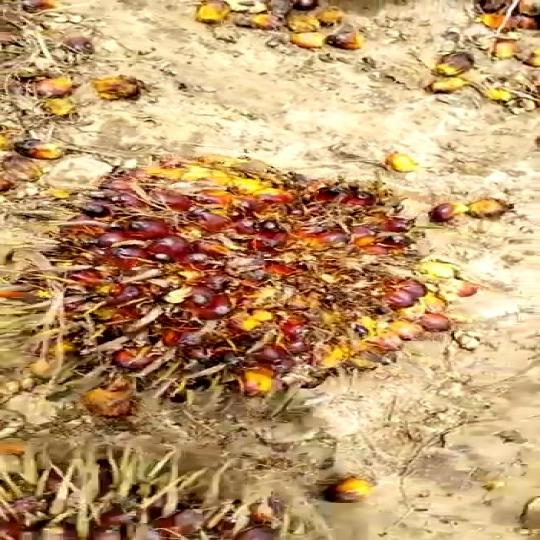masak: (41, 156, 469, 415)
